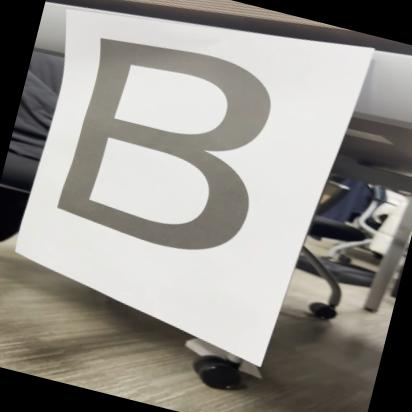seat: (27, 14, 322, 287)
